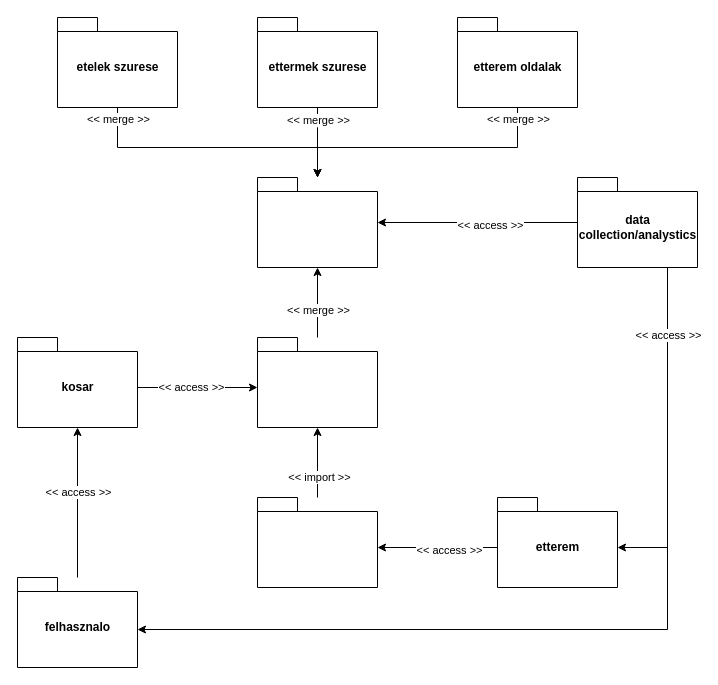
Some shapes in this 718 by 685 pixel diagram are drawn without their labels. Here are the shapes that lost their labels. From the top down, the centre of each, then its label:
At [317,222]: "webUI".
At [317,382]: "fizetes".
At [317,542]: "etel".
